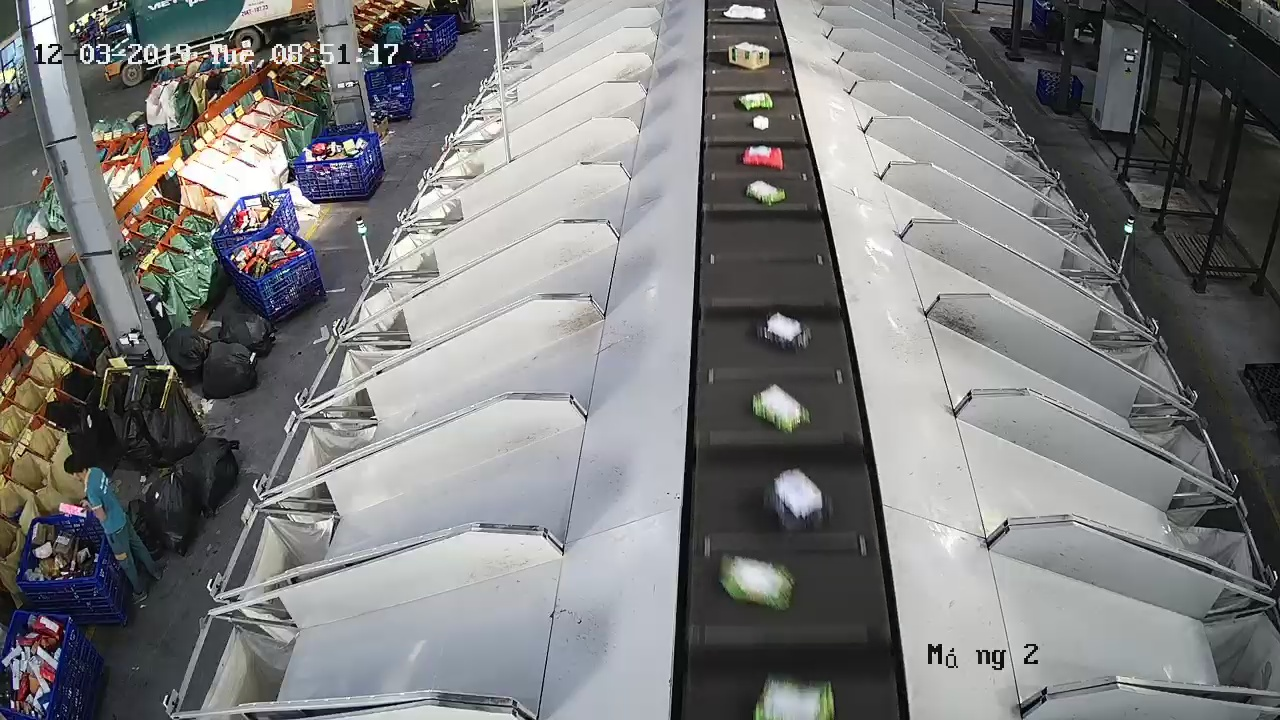parcel: (761, 465, 835, 535), (716, 551, 796, 613), (750, 382, 812, 436), (754, 308, 814, 355), (744, 178, 787, 207), (741, 144, 785, 172), (752, 114, 770, 131)
